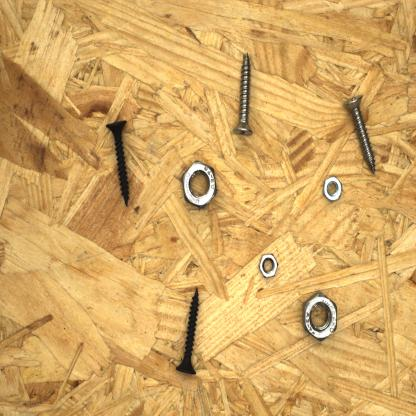screw: (339, 87, 379, 176), (172, 284, 202, 380), (102, 115, 132, 211), (230, 48, 256, 142)
